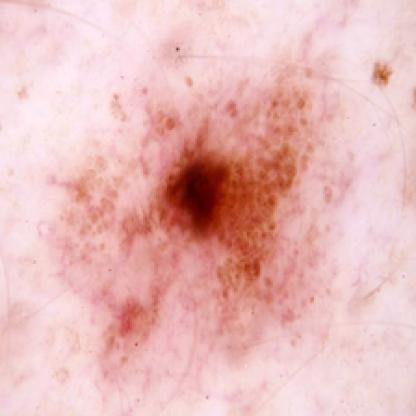benign: (124, 102, 320, 308)
